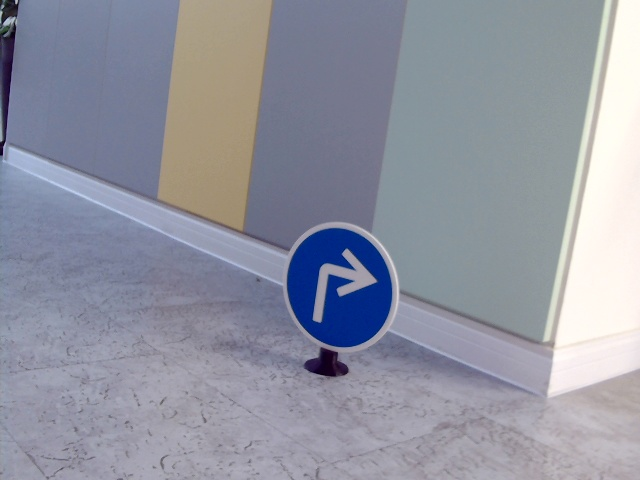turn_right: (305, 248, 375, 327)
